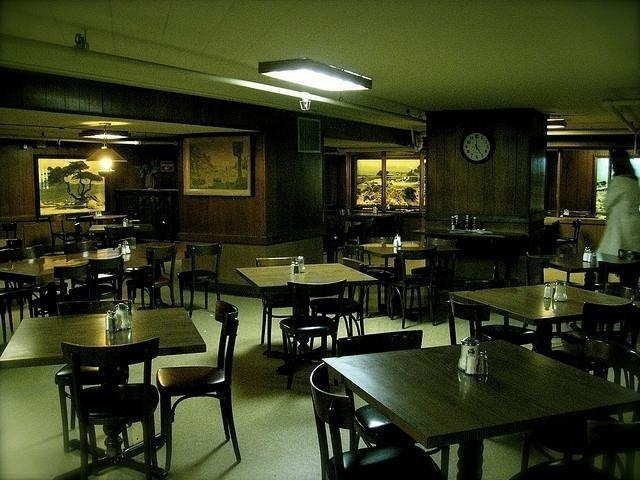clean: (334, 335, 602, 439), (13, 300, 211, 364), (5, 239, 222, 287), (467, 272, 636, 332), (246, 250, 373, 299), (346, 222, 468, 264)
